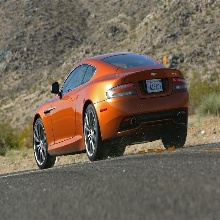no damage: (32, 52, 189, 168)
